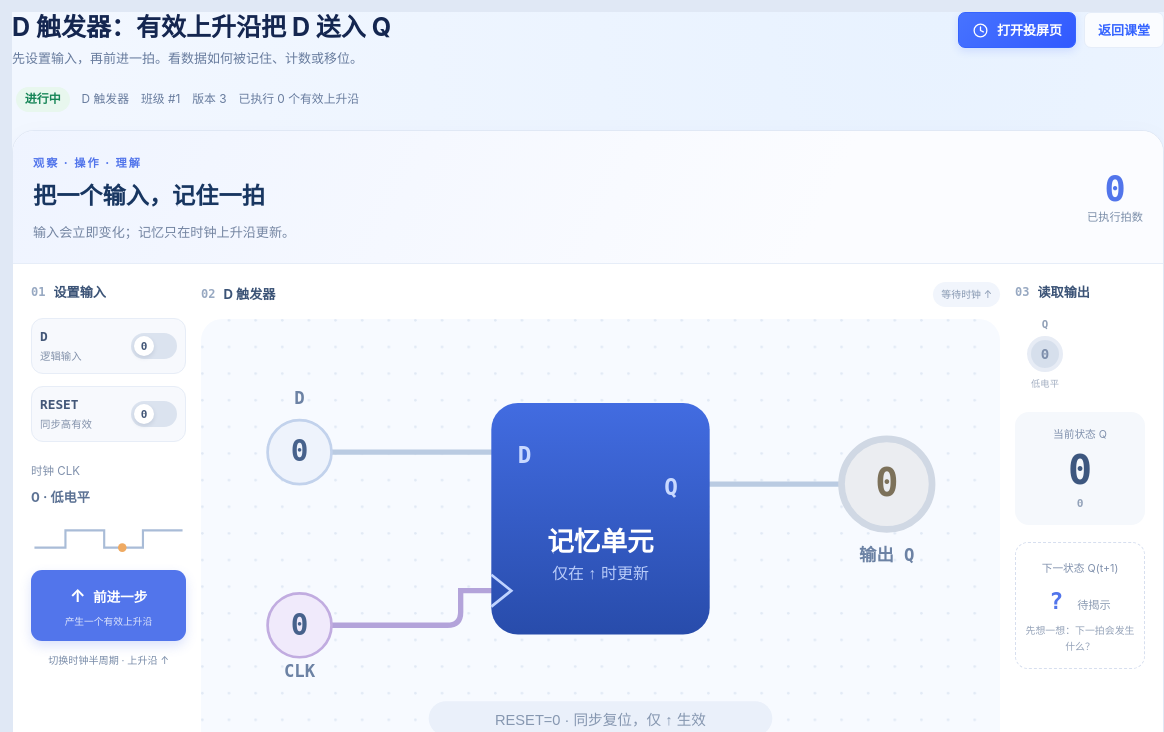
Test: 教师演示控制台 › 版本冲突时显示服务端原因并重新拉取状态
Click the button "切换时钟半周期 · 上升沿 ↑" at (108, 655), box 31,641 -> 186,668
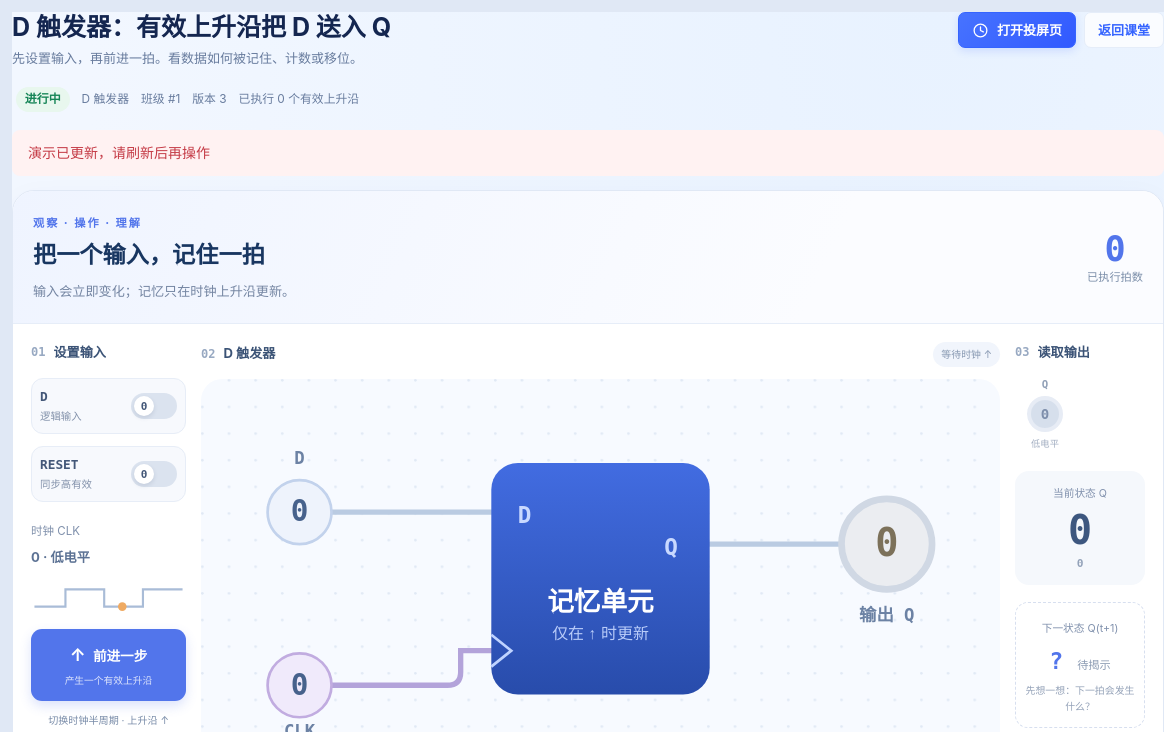
Expected: the text "演示已更新，请刷新后再操作" is shown, 12,130 -> 1163,176
